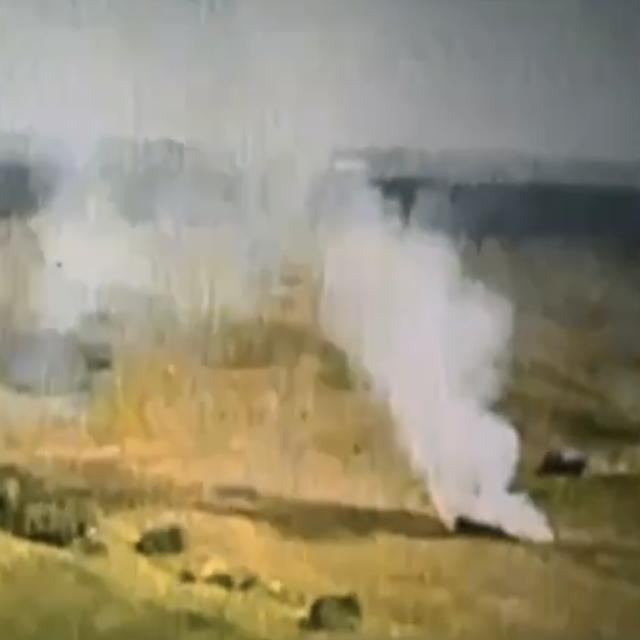vehicle: (444, 502, 519, 544), (535, 444, 588, 482)
